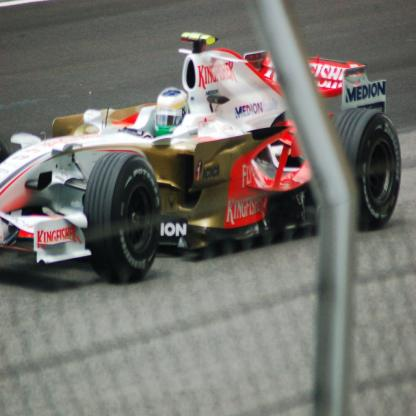Car: (1, 33, 403, 286)
